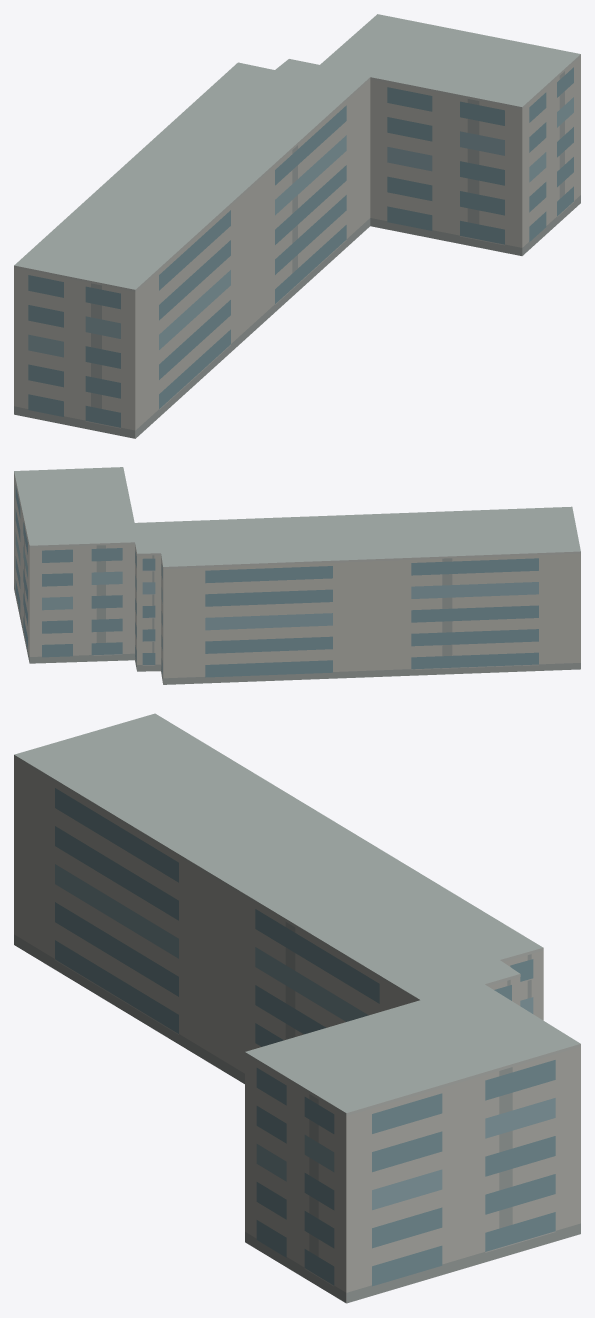
File: survey-upis-32624123.glb
3 renders of one model, top to bottom at view 1: azimuth 30°, elevation 25°; view 2: azimuth 150°, elevation 25°; view 3: azimuth 270°, elevation 25°, orthographic. The views are drawn at different scales.
Parts seen in each view (by area): view 1: survey-upis-32624123.tmp; view 2: survey-upis-32624123.tmp; view 3: survey-upis-32624123.tmp.
Boxes of the visible parts, bbox=[...] form: survey-upis-32624123.tmp: bbox=[14, 14, 580, 438]; survey-upis-32624123.tmp: bbox=[14, 467, 580, 684]; survey-upis-32624123.tmp: bbox=[14, 713, 580, 1303].
Size of the model in its own units: 68.72 by 15.25 by 41.19.
